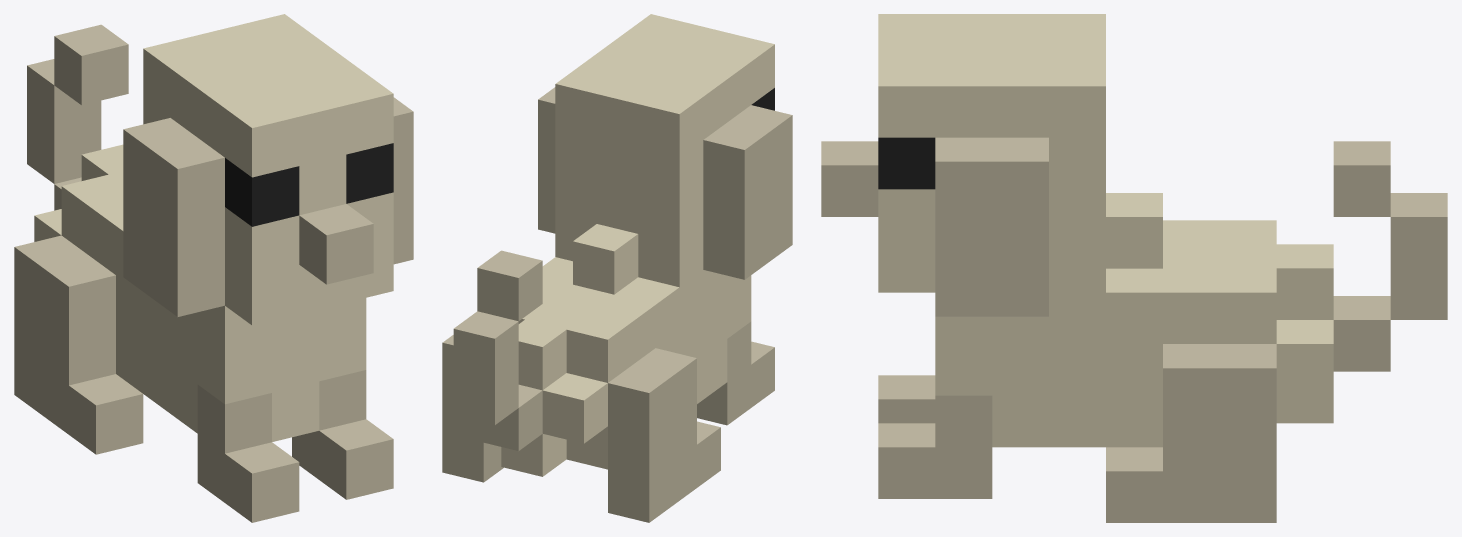
The model's file is Animal_Dog_03.obj.
The picture shows the model from 3 angles, left to right: view 1: azimuth 30°, elevation 25°; view 2: azimuth 150°, elevation 25°; view 3: azimuth 270°, elevation 25°; orthographic projection. The views are drawn at different scales.
Size of the model in its own units: 0.5 by 0.8 by 1.1.
1 material, 1 textured.
